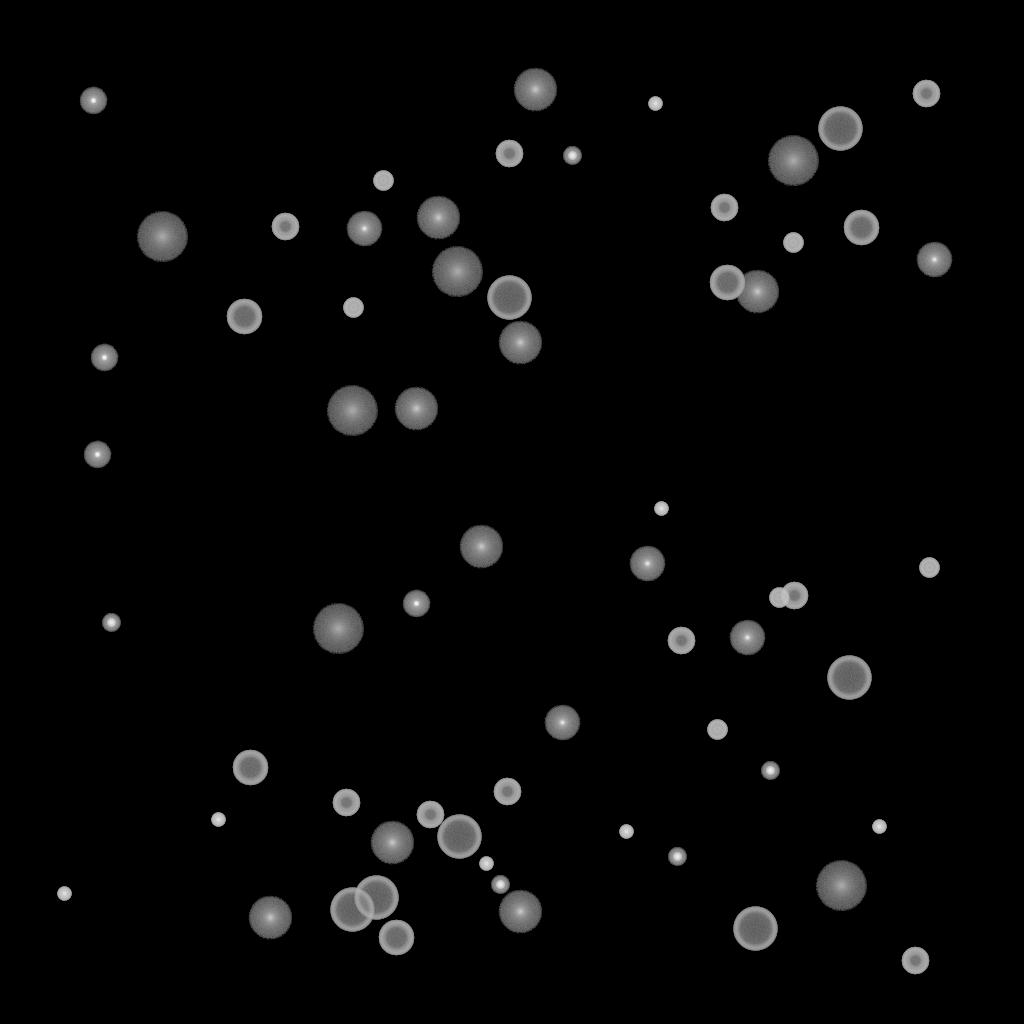depth:-10: (79, 87, 107, 115), (402, 590, 430, 618), (83, 441, 111, 469), (90, 344, 118, 372)
depth:-20: (761, 762, 779, 780), (668, 848, 686, 866), (102, 614, 120, 632), (563, 147, 581, 165), (491, 876, 509, 894)
depth:-30: (654, 502, 668, 516), (57, 887, 71, 901), (648, 97, 662, 111), (872, 820, 886, 834), (211, 813, 225, 827), (479, 857, 493, 871), (619, 825, 633, 839)
depth:-40: (373, 171, 393, 191), (783, 233, 803, 253), (343, 298, 363, 318), (769, 588, 789, 608), (919, 558, 939, 578), (707, 720, 727, 740)
depth:-50: (710, 194, 738, 222), (332, 789, 360, 817), (493, 778, 521, 806), (416, 801, 444, 829), (667, 627, 695, 655), (901, 947, 929, 975), (912, 80, 940, 108), (495, 140, 523, 168), (780, 582, 808, 610), (271, 213, 299, 241)
depth:-60: (226, 299, 262, 335), (378, 920, 414, 956), (843, 210, 879, 246), (232, 750, 268, 786), (709, 265, 745, 301)
depth:-70: (354, 876, 398, 920), (437, 815, 481, 859), (487, 276, 531, 320), (827, 656, 871, 700), (733, 907, 777, 951), (818, 107, 862, 151), (330, 888, 374, 932)
depth:0: (729, 620, 765, 656), (629, 546, 665, 582), (544, 705, 580, 741), (916, 242, 952, 278), (346, 211, 382, 247)
depth:10: (416, 196, 460, 240), (394, 387, 438, 431), (248, 896, 292, 940), (370, 821, 414, 865), (735, 270, 779, 314), (459, 525, 503, 569), (513, 68, 557, 112), (498, 890, 542, 934), (498, 321, 542, 365)
depth:20: (136, 212, 188, 262), (431, 247, 483, 297), (815, 861, 867, 911), (312, 604, 364, 654), (767, 136, 819, 186), (326, 386, 378, 436)
